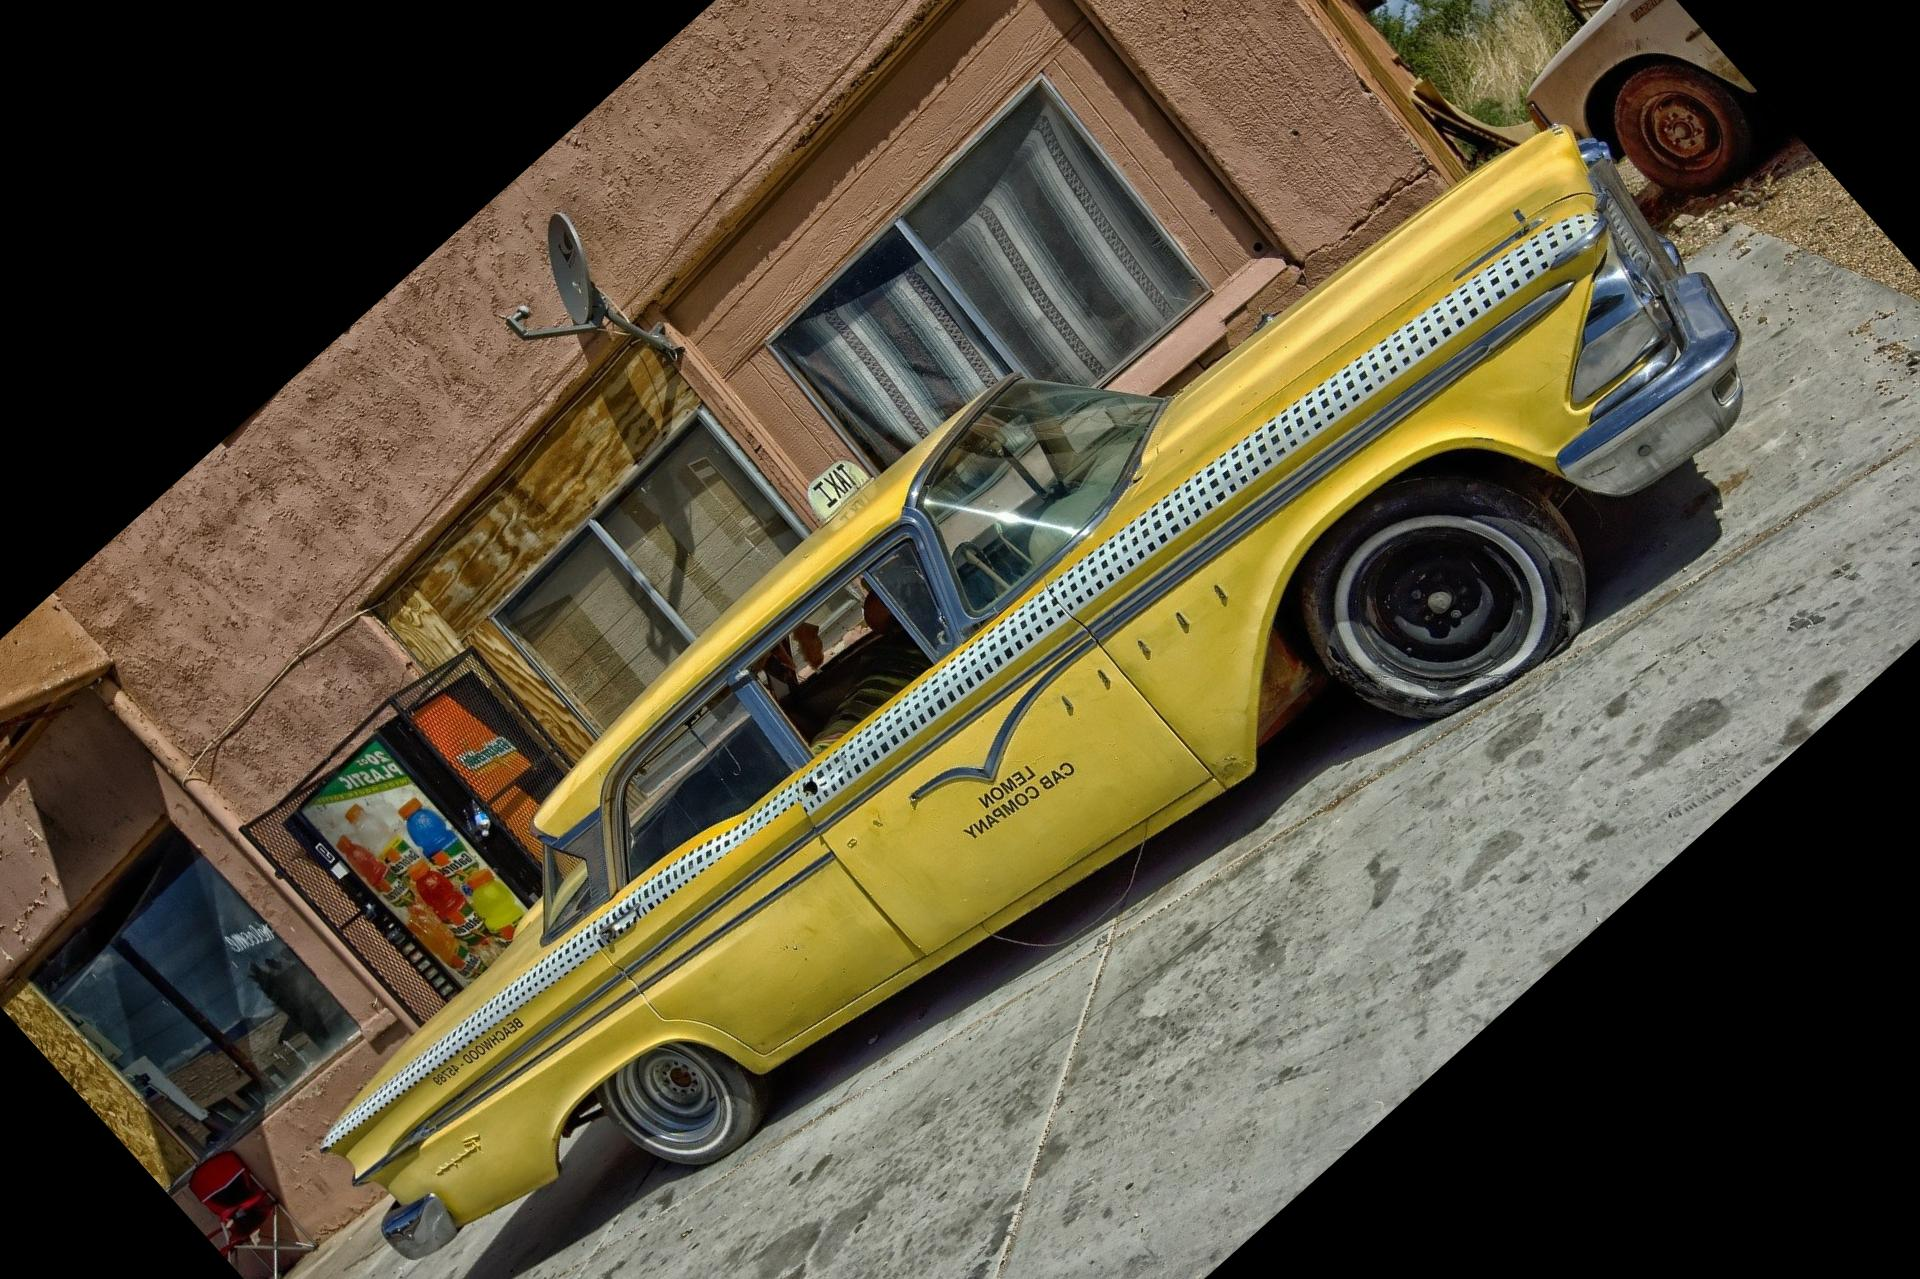taxi: (317, 138, 1704, 1268)
